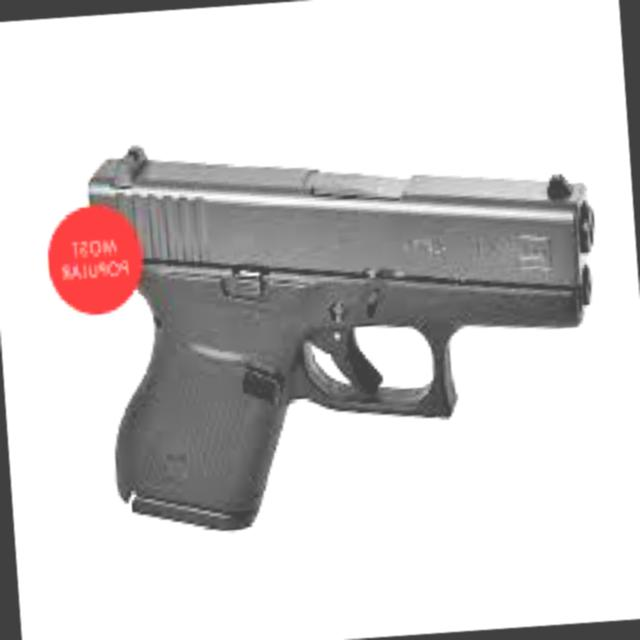semi automatic: (75, 97, 621, 562)
